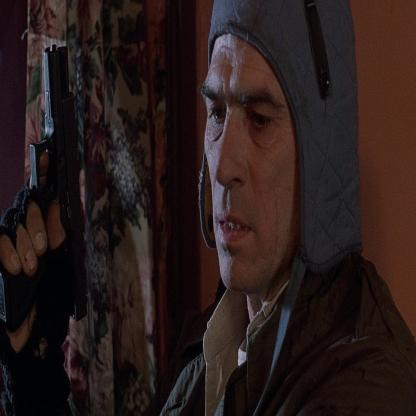gun: (21, 38, 93, 301)
